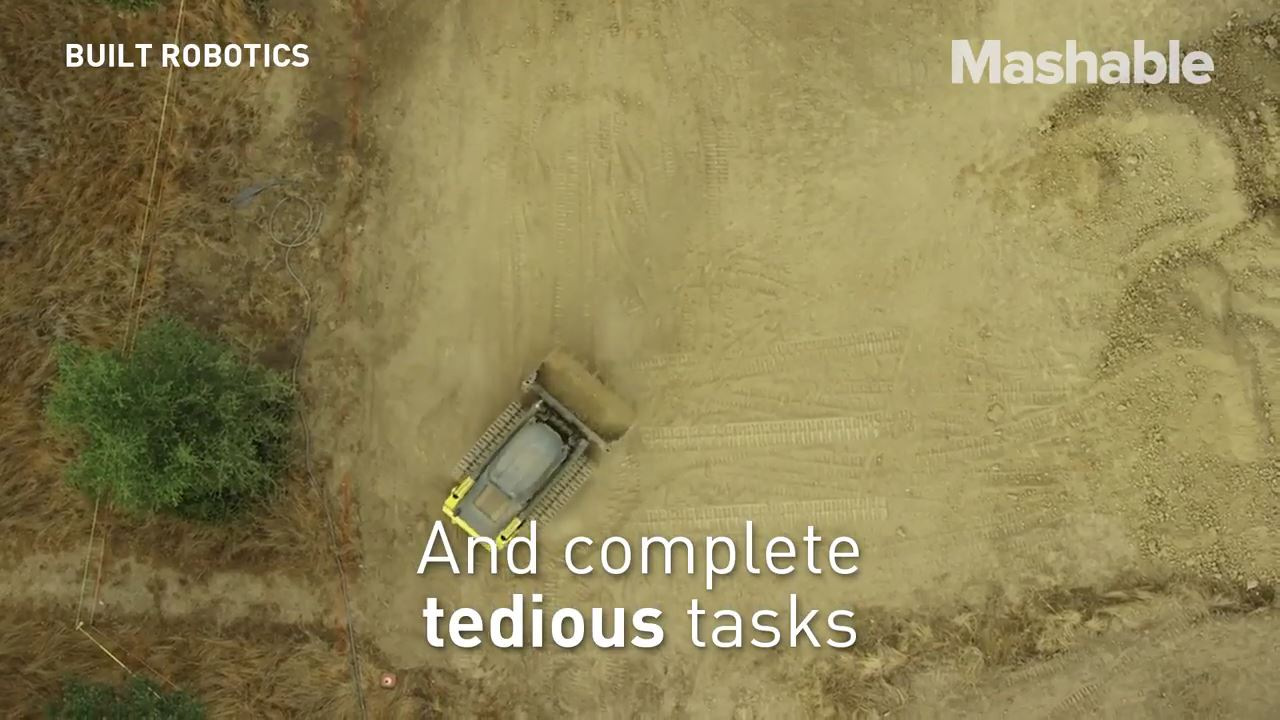con_eq: (439, 348, 632, 555)
